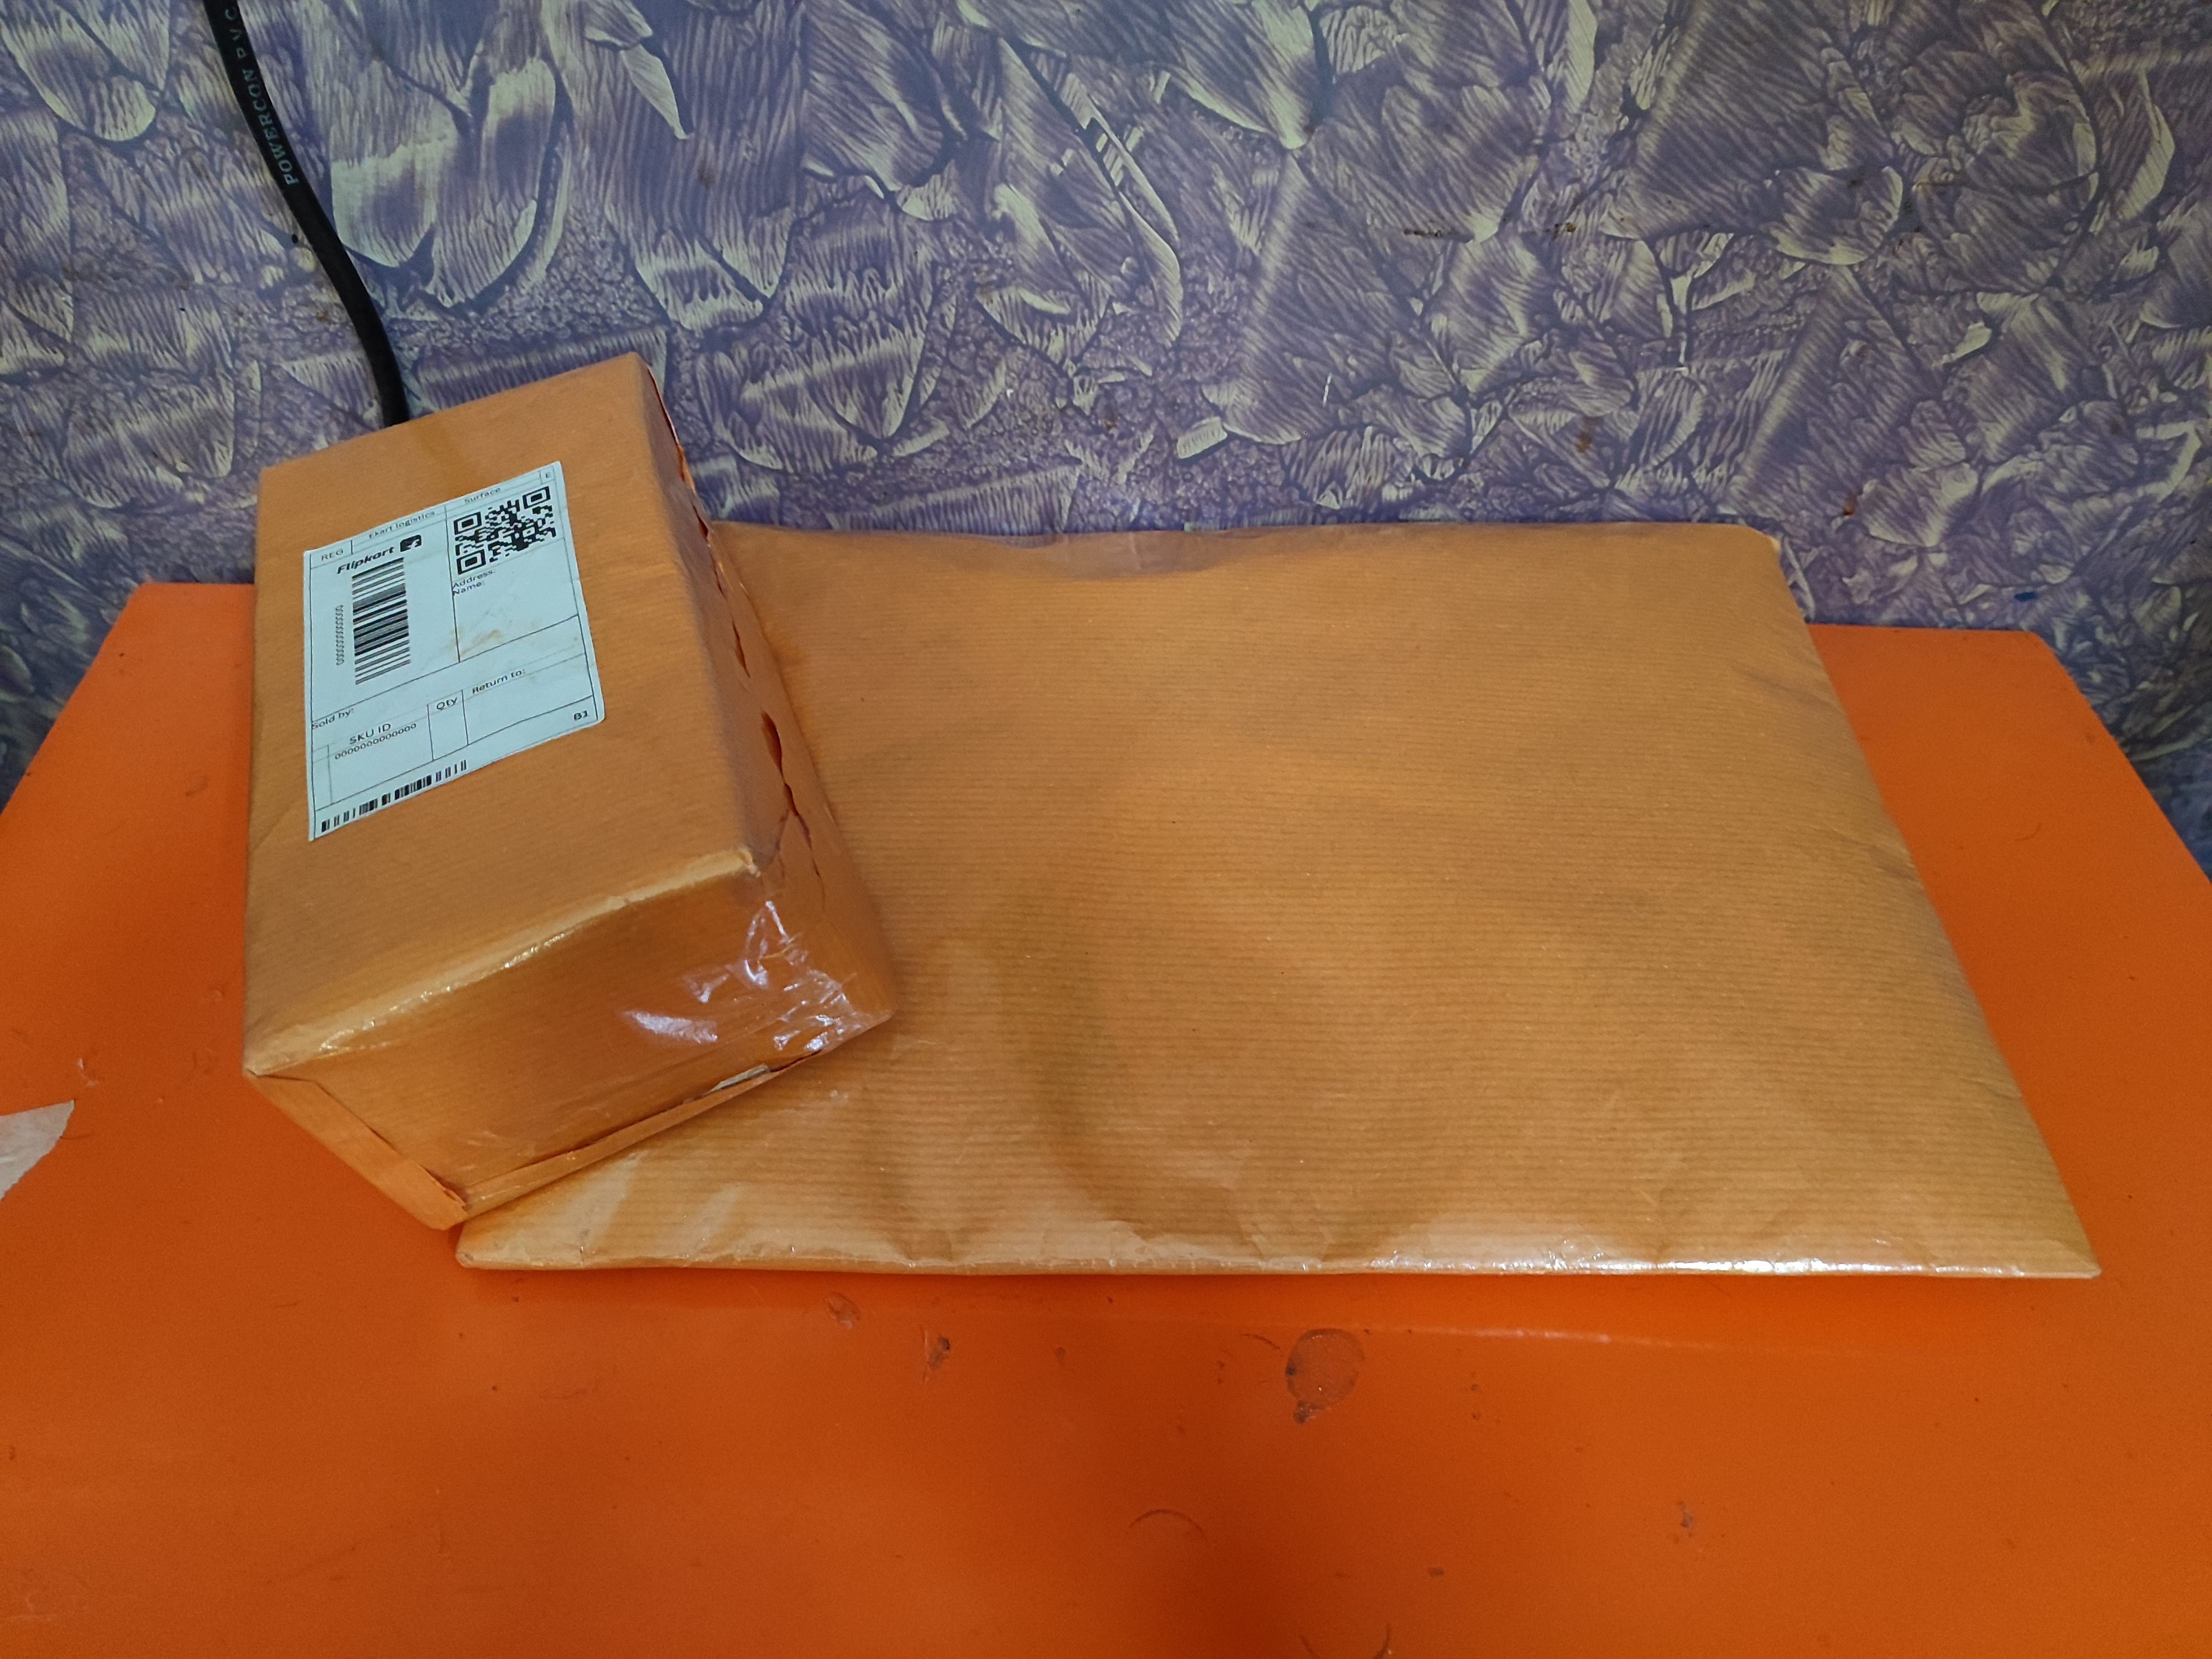Box: (500, 448, 2020, 1363), (193, 317, 885, 1150)
